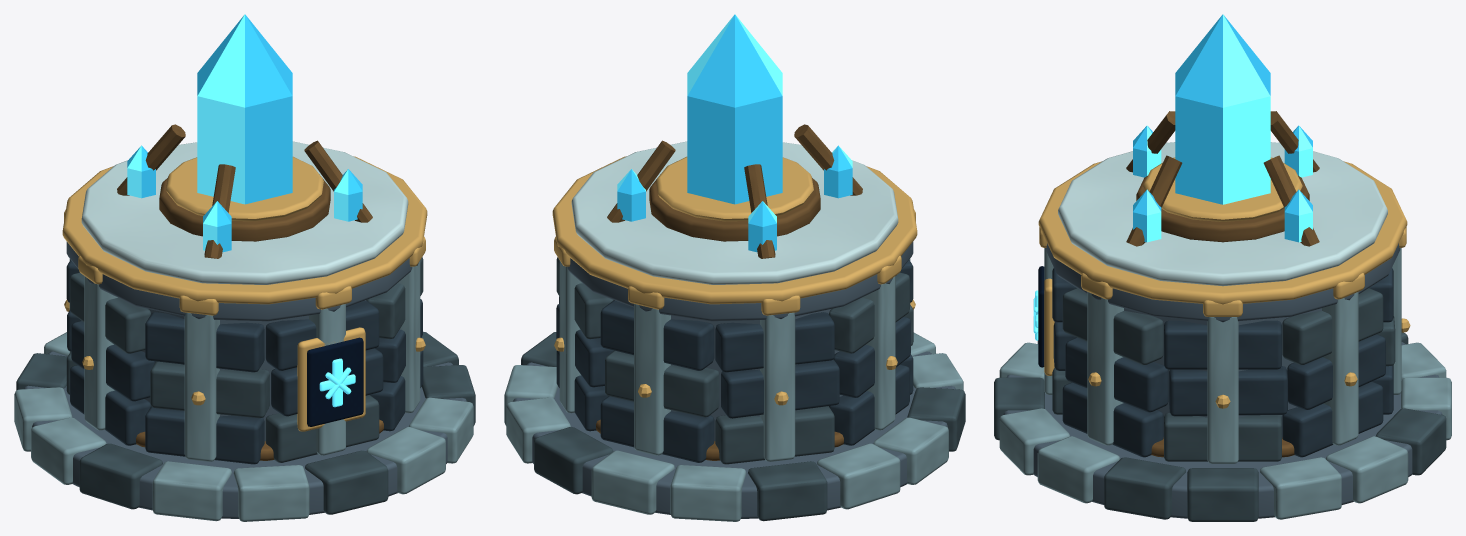
The model's file is frost-guardian.glb.
3 views of the same model, side by side, from view 1: azimuth 30°, elevation 25°; view 2: azimuth 150°, elevation 25°; view 3: azimuth 270°, elevation 25° (orthographic).
Visible parts, largest first — view 1: Snow shelf, Main frost crystal, Upper bronze rim, Foundation dark joints, Stone buttress 05, Upper dark rim, Crystal socket bright rim, Masonry row 2 block 5, Masonry row 1 block 5, Masonry row 0 block 5, Foundation stone 11, Foundation stone 10 (+33 smaller); view 2: Snow shelf, Main frost crystal, Upper bronze rim, Foundation dark joints, Stone buttress 03, Upper dark rim, Stone buttress 02, Crystal socket bright rim, Masonry row 2 block 3, Masonry row 0 block 3, Masonry row 1 block 3, Masonry row 2 block 2 (+31 smaller); view 3: Snow shelf, Main frost crystal, Upper bronze rim, Foundation dark joints, Upper dark rim, Stone buttress 00, Masonry row 2 block 0, Masonry row 1 block 0, Masonry row 0 block 0, Stone buttress 07, Stone buttress 01, Foundation stone 00 (+36 smaller).
Boxes of the visible parts, bbox=[...] form: Snow shelf: bbox=[81, 141, 408, 284]; Main frost crystal: bbox=[197, 14, 292, 204]; Upper bronze rim: bbox=[62, 156, 427, 304]; Foundation dark joints: bbox=[24, 351, 466, 518]; Stone buttress 05: bbox=[184, 312, 219, 461]; Upper dark rim: bbox=[66, 241, 418, 321]; Crystal socket bright rim: bbox=[166, 156, 323, 221]; Masonry row 2 block 5: bbox=[145, 312, 264, 372]; Masonry row 1 block 5: bbox=[150, 361, 269, 418]; Masonry row 0 block 5: bbox=[145, 406, 264, 464]; Foundation stone 11: bbox=[233, 465, 309, 521]; Foundation stone 10: bbox=[152, 461, 231, 521]; Snow shelf: bbox=[571, 141, 898, 284]; Main frost crystal: bbox=[687, 14, 782, 204]; Upper bronze rim: bbox=[552, 156, 917, 304]; Foundation dark joints: bbox=[513, 351, 955, 518]; Stone buttress 03: bbox=[760, 312, 795, 461]; Upper dark rim: bbox=[561, 241, 913, 321]; Stone buttress 02: bbox=[634, 304, 670, 455]; Crystal socket bright rim: bbox=[656, 156, 813, 221]; Masonry row 2 block 3: bbox=[715, 312, 834, 372]; Masonry row 0 block 3: bbox=[715, 406, 834, 464]; Masonry row 1 block 3: bbox=[721, 359, 839, 418]; Masonry row 2 block 2: bbox=[600, 300, 714, 370]; Snow shelf: bbox=[1058, 142, 1387, 286]; Main frost crystal: bbox=[1175, 14, 1270, 204]; Upper bronze rim: bbox=[1038, 161, 1407, 304]; Foundation dark joints: bbox=[1003, 342, 1442, 518]; Upper dark rim: bbox=[1045, 243, 1400, 322]; Stone buttress 00: bbox=[1207, 317, 1238, 463]; Masonry row 2 block 0: bbox=[1164, 320, 1281, 369]; Masonry row 1 block 0: bbox=[1169, 366, 1287, 416]; Masonry row 0 block 0: bbox=[1164, 413, 1281, 461]; Stone buttress 07: bbox=[1087, 292, 1123, 445]; Stone buttress 01: bbox=[1322, 292, 1358, 445]; Foundation stone 00: bbox=[1187, 468, 1258, 521].
Size of the model in its own units: 3.33 by 3.32 by 3.33.
10 materials, 6 textured.
